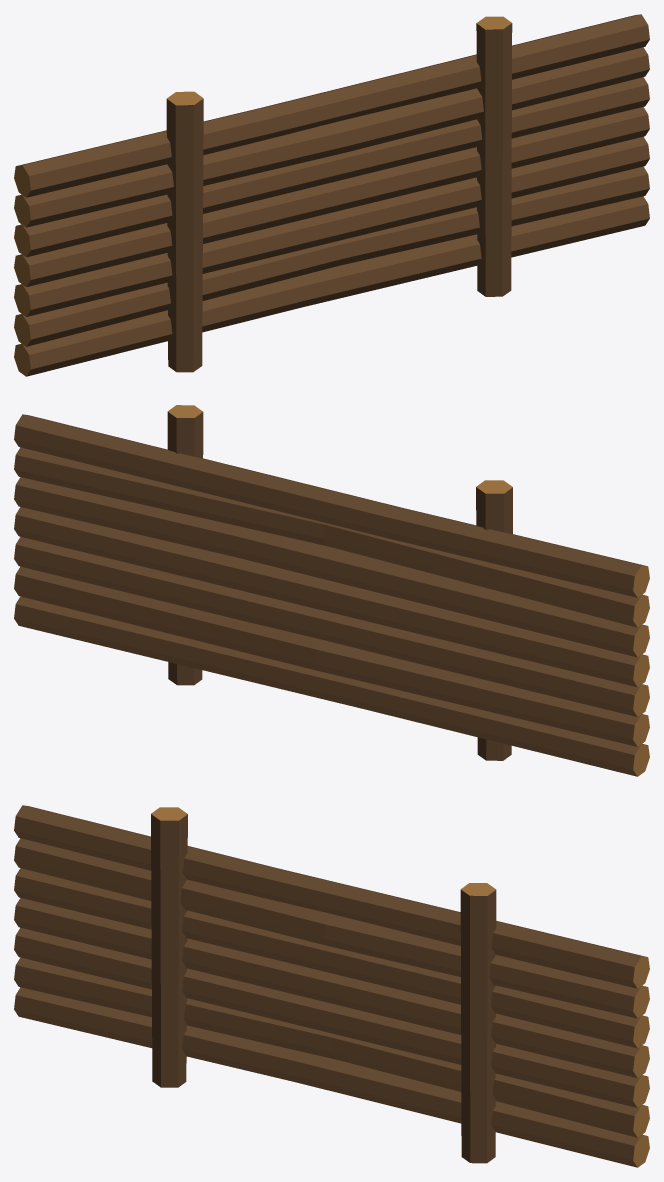
File: trenches-wood.glb
3 renders of one model, top to bottom at view 1: azimuth 30°, elevation 25°; view 2: azimuth 150°, elevation 25°; view 3: azimuth 330°, elevation 25°, orthographic.
Parts seen in each view (by area): view 1: trenches-wood; view 2: trenches-wood; view 3: trenches-wood.
Part boxes in pixels (box(x1,y1,x2,y2)): trenches-wood: box(14, 14, 649, 376); trenches-wood: box(14, 405, 649, 776); trenches-wood: box(14, 805, 649, 1167).
Bounding box in the file's own units: 4 × 1.65 × 0.322.
1 material, 1 textured.
